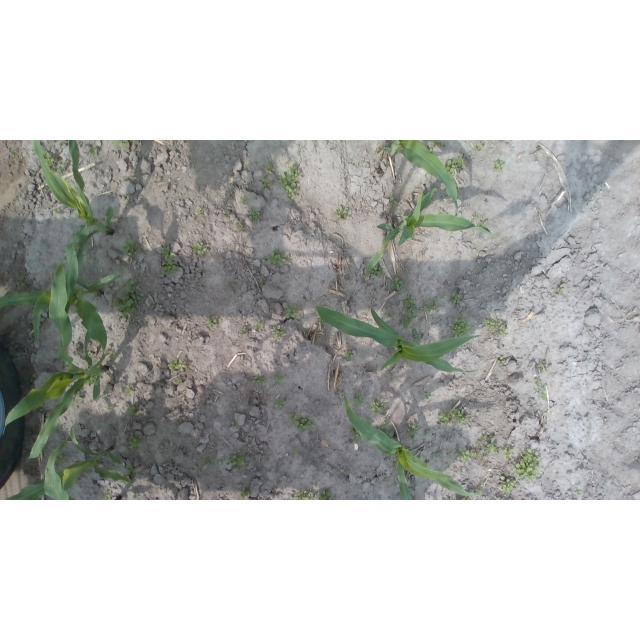Maize: (1, 263, 110, 458), (33, 140, 116, 314), (343, 395, 478, 500), (363, 188, 497, 277), (0, 274, 120, 368), (315, 304, 480, 372), (3, 423, 138, 500), (382, 140, 459, 208)
Weeds: (112, 280, 144, 316), (510, 447, 540, 481), (278, 163, 299, 200), (437, 407, 467, 425), (288, 412, 314, 432), (452, 313, 472, 336), (404, 295, 420, 320), (444, 156, 464, 176), (121, 240, 141, 257), (500, 476, 517, 496), (227, 452, 248, 468), (267, 250, 289, 265), (40, 145, 57, 164), (162, 260, 181, 276), (159, 245, 177, 260), (485, 436, 499, 455), (335, 204, 350, 221), (370, 400, 389, 413), (192, 242, 209, 256), (379, 421, 393, 438), (169, 360, 188, 372), (252, 372, 268, 386), (424, 300, 439, 314), (391, 277, 405, 292), (128, 435, 141, 451), (272, 324, 285, 340), (483, 319, 501, 330), (284, 305, 297, 320), (404, 424, 420, 436), (456, 448, 470, 461), (470, 443, 482, 458), (113, 140, 135, 148), (352, 392, 364, 406), (372, 264, 385, 276), (248, 208, 261, 220), (260, 177, 273, 189), (492, 160, 504, 173), (496, 326, 509, 338), (351, 429, 362, 443), (400, 317, 412, 329), (411, 329, 421, 343), (296, 492, 313, 500), (318, 492, 335, 500), (128, 406, 140, 417), (276, 400, 288, 411), (451, 292, 461, 305), (274, 374, 285, 385), (88, 146, 99, 157), (253, 321, 264, 331), (537, 363, 546, 375), (125, 388, 136, 397), (420, 389, 429, 400), (128, 463, 137, 474), (497, 356, 504, 369), (504, 446, 513, 456), (56, 164, 65, 174), (207, 318, 217, 327), (389, 196, 397, 207), (239, 196, 248, 205), (265, 164, 274, 173), (240, 489, 249, 498), (476, 485, 484, 495), (102, 493, 113, 500), (346, 351, 354, 360), (200, 459, 209, 467), (18, 276, 26, 285), (197, 207, 204, 217), (478, 220, 488, 227), (557, 284, 563, 295), (235, 221, 243, 229), (53, 209, 62, 216), (539, 390, 547, 397), (382, 144, 391, 150), (387, 312, 394, 319), (231, 421, 238, 428), (477, 144, 484, 151), (435, 452, 442, 459), (72, 395, 80, 401), (439, 209, 447, 215), (535, 380, 541, 388), (69, 402, 75, 409), (472, 214, 478, 221), (291, 448, 297, 455), (177, 379, 183, 385), (343, 470, 349, 476), (433, 140, 440, 145), (428, 148, 434, 153), (225, 212, 230, 218), (466, 496, 473, 500), (412, 440, 416, 444), (496, 497, 500, 500)
